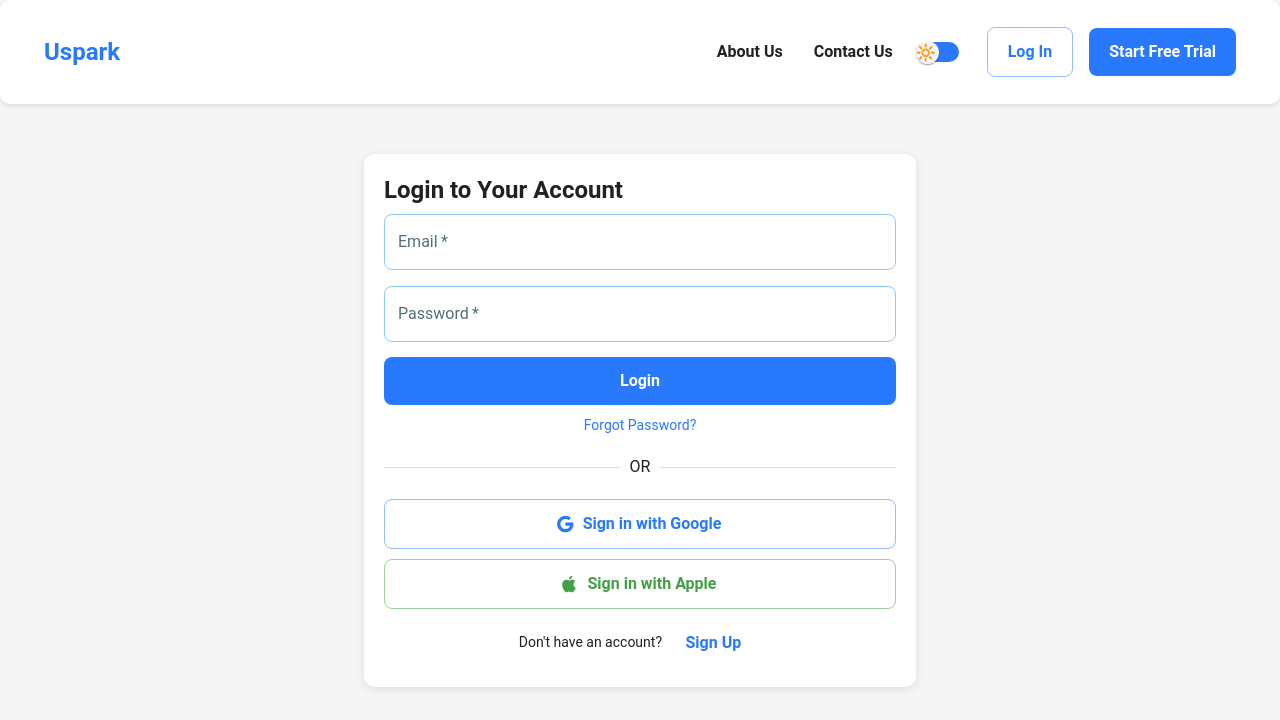
Login Page › should show error on invalid login
The width and height of the screenshot is (1280, 720).
Type "invalid@example.com" into the element with test id "login-email".
click(640, 242); type("invalid@example.com")  # box [384,214,896,270]
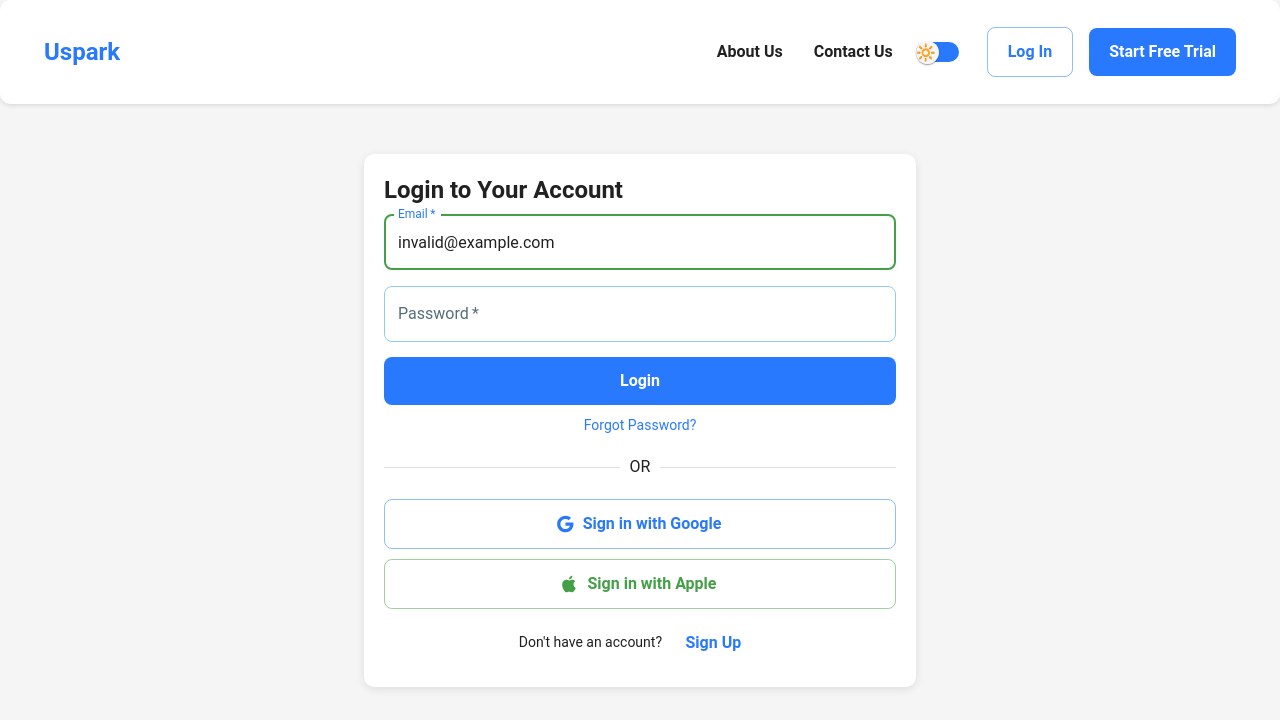
Type "wrongpassword" into the element with test id "login-password".
click(640, 314); type("wrongpassword")  # box [384,286,896,342]
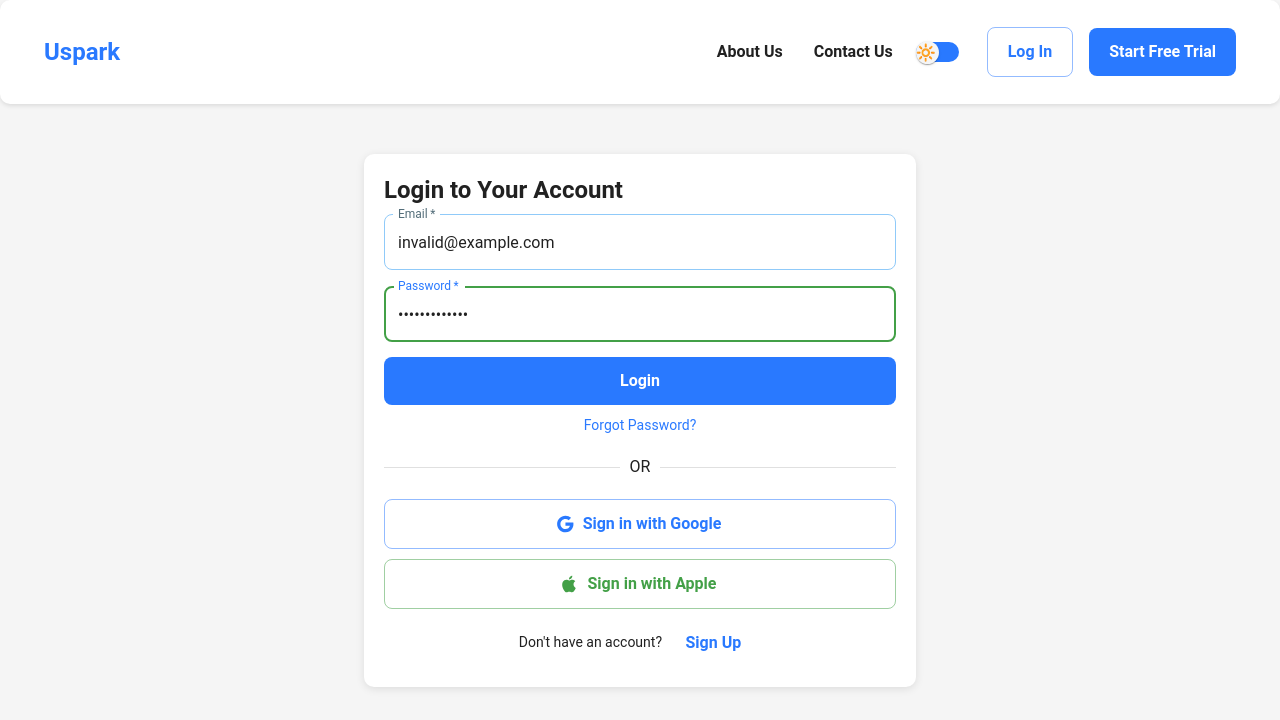
Click the button with test id "login-button".
click(640, 381)  # box [384,357,896,405]
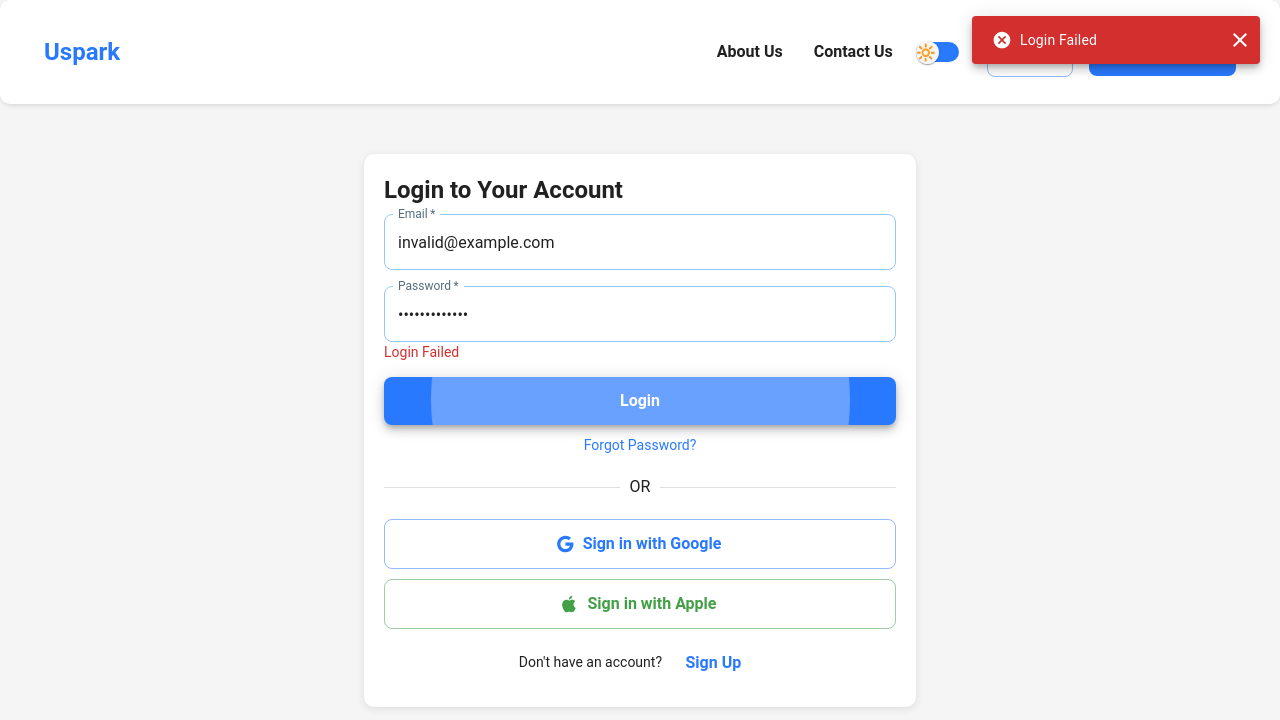
Now the text "Login Failed" is shown, box [384,344,459,360]
